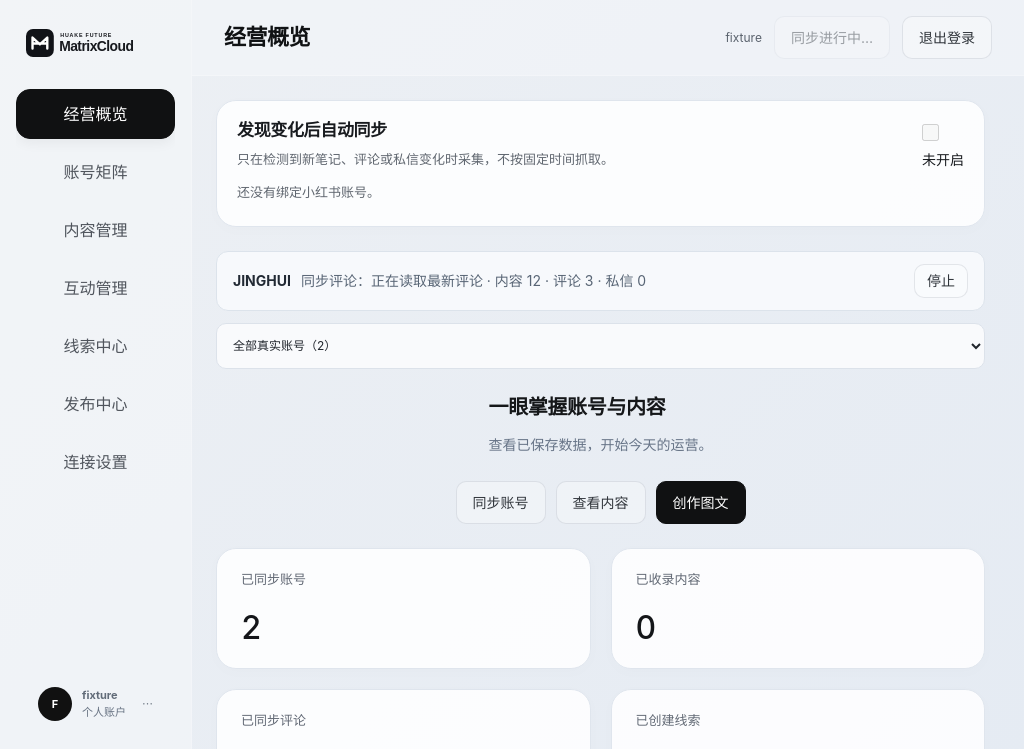
shows running stage and saved counts instead of concealing progress behind generic text
Check: the text "已同步账号" is shown, box [241,571,306,587]
Click the button "账号矩阵".
click(96, 172)  # box [16,147,175,197]
(page scrolled)
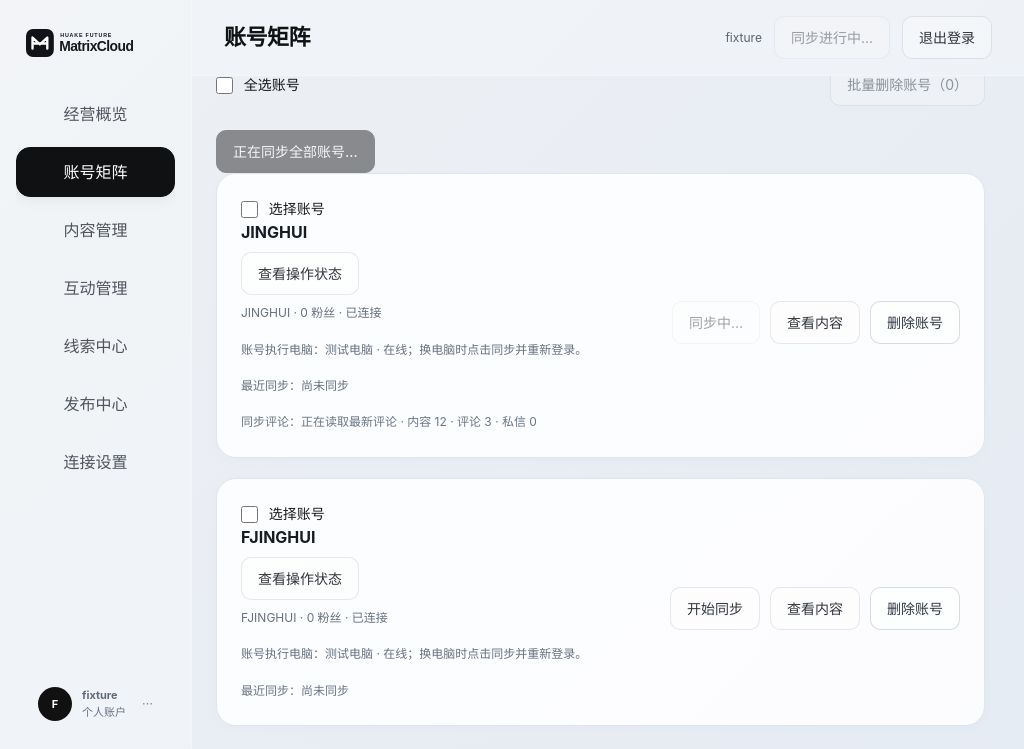
Check: the message shows "正在读取最新评论", box [241,414,537,429]
Check: the heading "JINGHUI" is shown, box [241,222,307,242]
